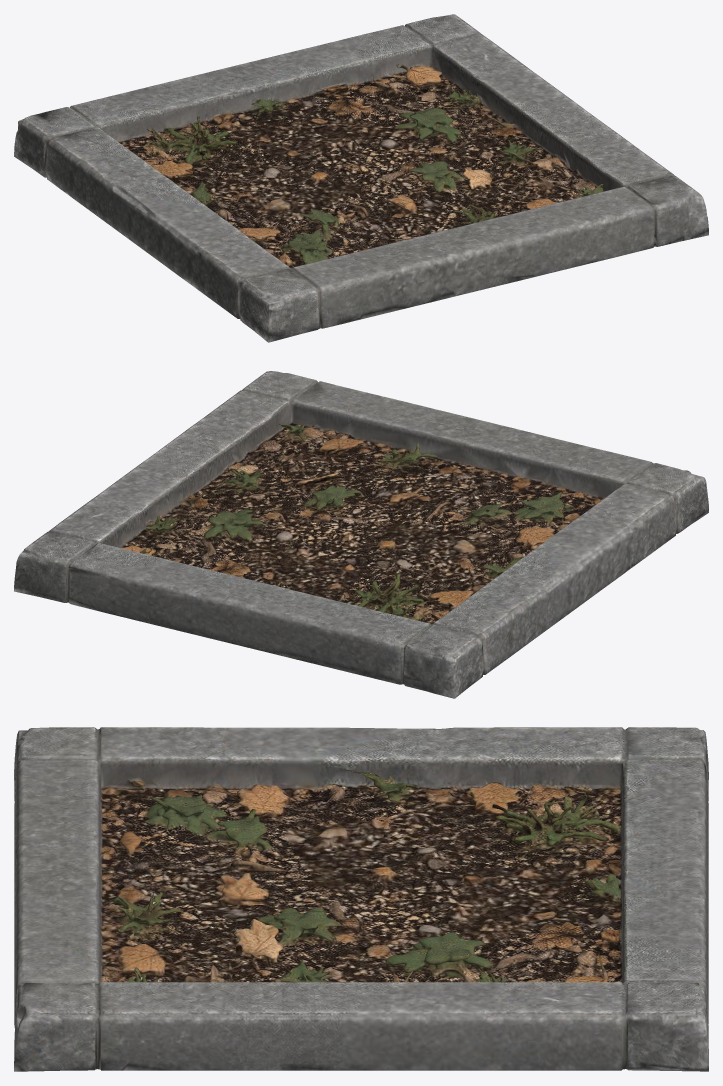
The model's file is lindenstadt-tree-pit.glb.
3 renders of one model, top to bottom at view 1: azimuth 30°, elevation 25°; view 2: azimuth 150°, elevation 25°; view 3: azimuth 270°, elevation 25°, orthographic. The views are drawn at different scales.
Bounding box in the file's own units: 1.9 × 0.1837 × 1.9.
1 material, 1 textured.
